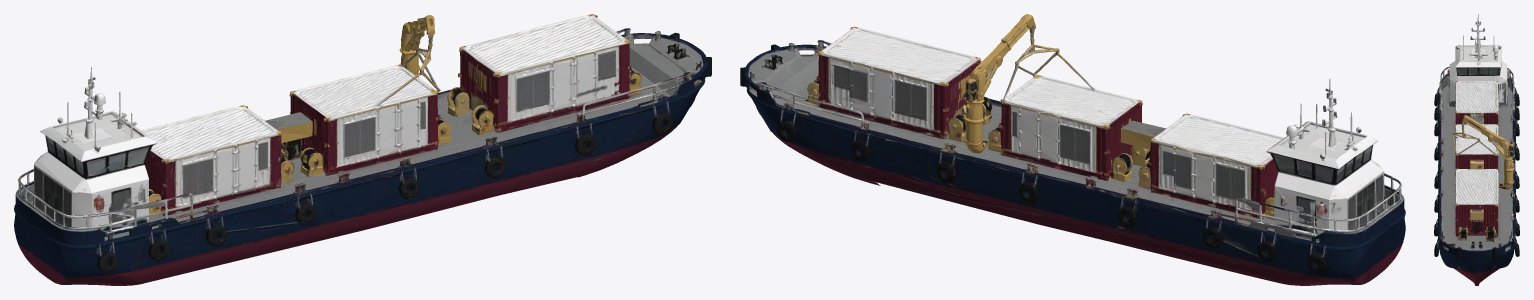
Rendered from 11_battery_swap_barge_60m.glb.
The picture shows the model from 3 angles, left to right: view 1: azimuth 30°, elevation 25°; view 2: azimuth 150°, elevation 25°; view 3: azimuth 270°, elevation 25°; orthographic projection. The views are drawn at different scales.
Parts seen in each view (by area): view 1: Mesh_0; view 2: Mesh_0; view 3: Mesh_0.
Part boxes in pixels (left/top/right/bottom): Mesh_0: left=14, top=14, right=711, bottom=285; Mesh_0: left=740, top=14, right=1405, bottom=285; Mesh_0: left=1434, top=14, right=1519, bottom=285.
Bounding box in the file's own units: 60 × 17.19 × 12.
1 material, 1 textured.
